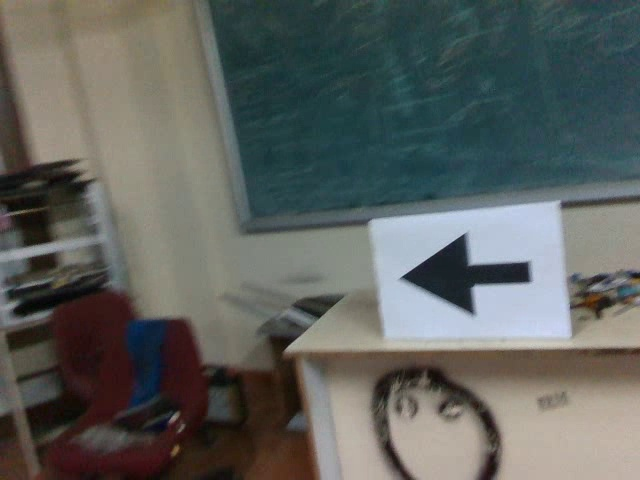Left: (394, 229, 538, 322)
